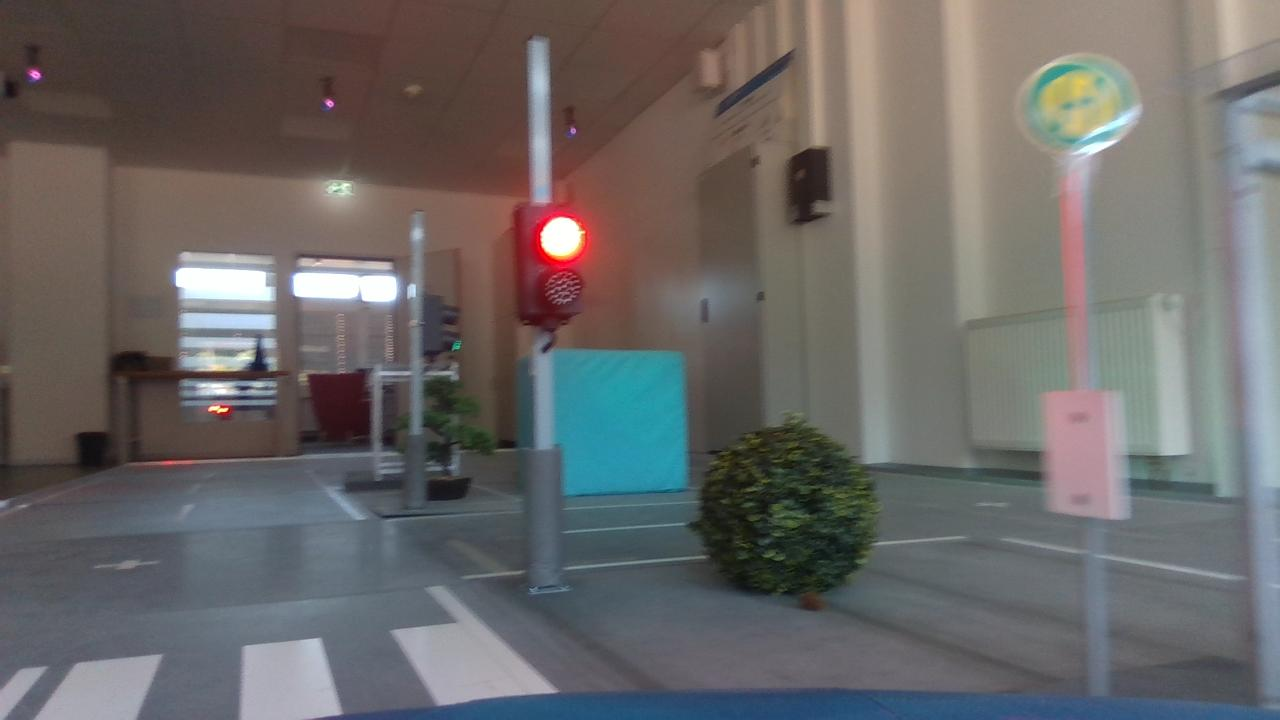traffic_light_red: (507, 190, 593, 332)
